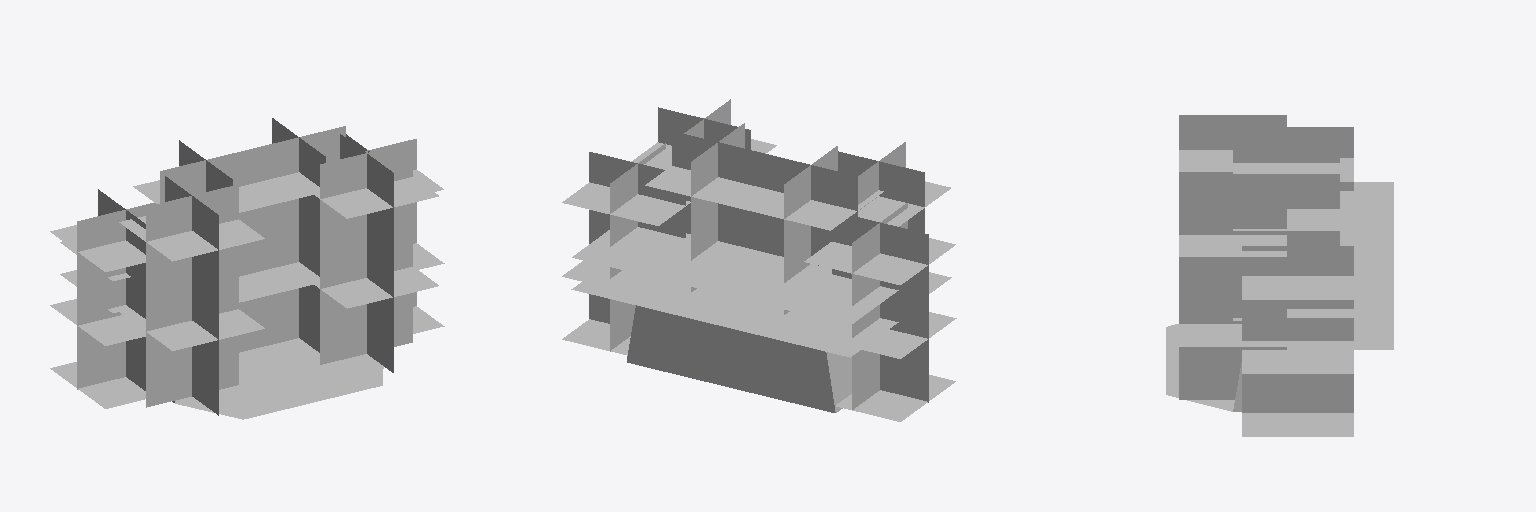
Rendered from r0_pineForestEnter.obj.
3 views of the same model, side by side, from view 1: azimuth 30°, elevation 25°; view 2: azimuth 150°, elevation 25°; view 3: azimuth 270°, elevation 25° (orthographic).
Visible parts, largest first — view 1: map; view 2: map; view 3: map.
Part boxes in pixels (x1,y1,x2,y2): map: (50, 118, 444, 419); map: (562, 99, 956, 421); map: (1166, 115, 1393, 436).
Size of the model in its own units: 7 by 4.14 by 4.08.